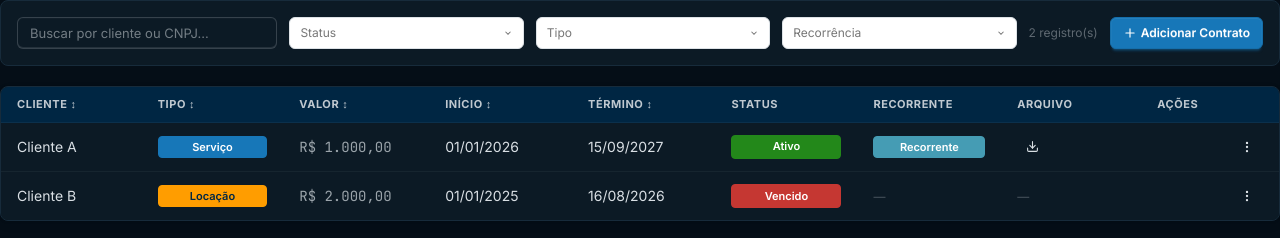
Test case: filters by recurring using MultiSelect
Click the button "Recorrência": (899, 33) [782, 17, 1016, 49]
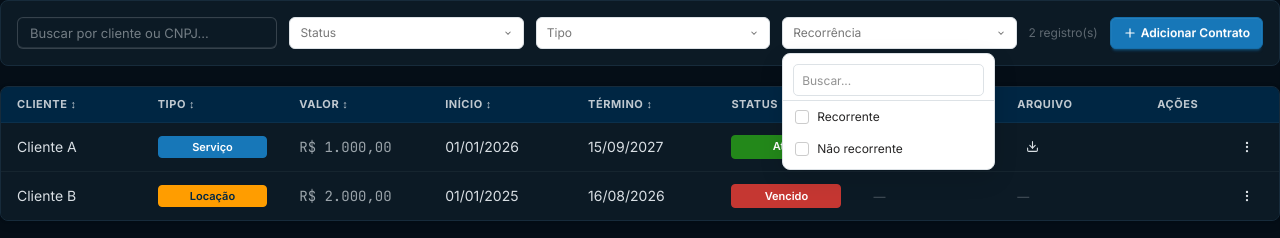
Click the text "Recorrente": (837, 116) [795, 109, 880, 124]
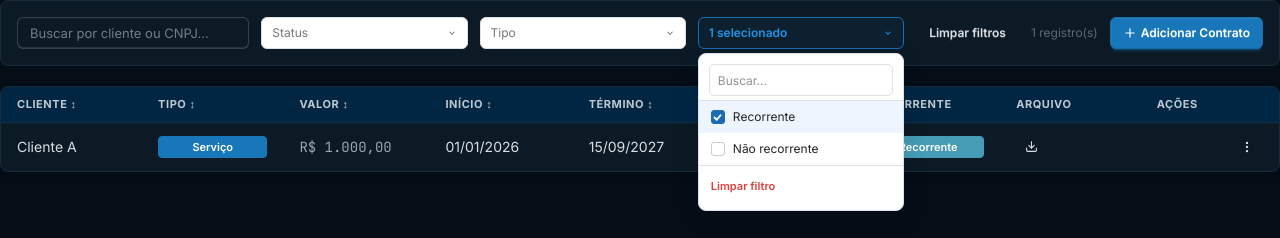
Expected: the text "Cliente A" is shown, [1, 122, 142, 171]
Result: the button "Cliente B" is gone
